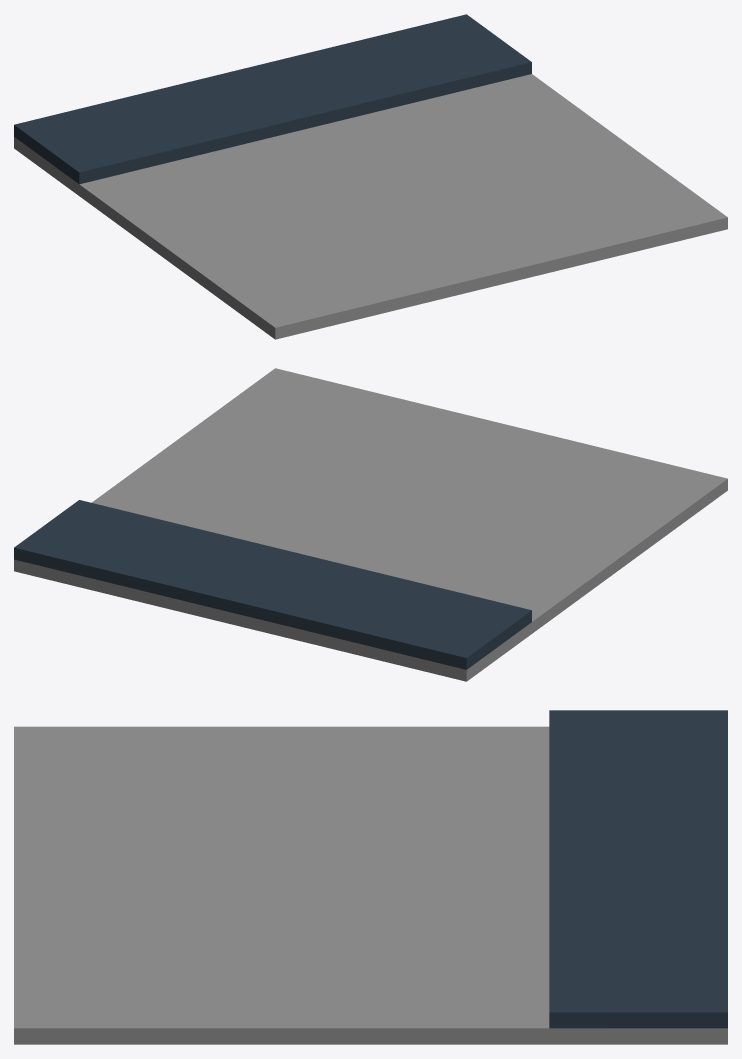
File: Tile1x1MeioFio.fbx
3 views of the same model, one above another, from view 1: azimuth 30°, elevation 25°; view 2: azimuth 150°, elevation 25°; view 3: azimuth 270°, elevation 25° (orthographic). The views are drawn at different scales.
Visible parts, largest first — view 1: Rua.meiofio; view 2: Rua.meiofio; view 3: Rua.meiofio.
Part boxes in pixels (bbox=[...]): Rua.meiofio: bbox=[14, 14, 727, 339]; Rua.meiofio: bbox=[14, 368, 727, 681]; Rua.meiofio: bbox=[14, 710, 727, 1044].
Size of the model in its own units: 400 by 20 by 400.
